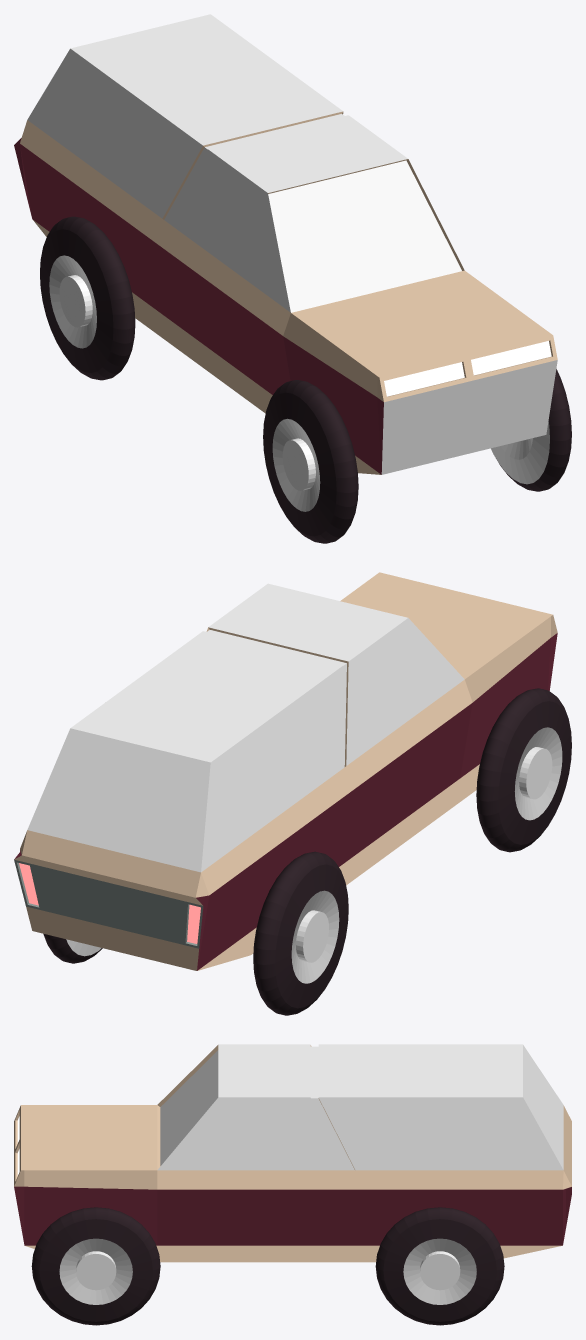
File: ari_lybaert_toy.8cf117b7.glb
The picture shows the model from 3 angles, top to bottom: view 1: azimuth 30°, elevation 25°; view 2: azimuth 150°, elevation 25°; view 3: azimuth 270°, elevation 25°; orthographic projection. The views are drawn at different scales.
Parts seen in each view (by area): view 1: Cube, Cube.001, Cube.002; view 2: Cube, Cube.002, Cube.001; view 3: Cube, Cube.002, Cube.001.
Boxes of the visible parts, box(x1,y1,x2,y2) form: Cube: box(14, 14, 557, 474); Cube.001: box(263, 369, 571, 543); Cube.002: box(40, 216, 135, 380); Cube: box(14, 572, 557, 970); Cube.002: box(43, 851, 348, 1015); Cube.001: box(476, 688, 571, 852); Cube: box(14, 1044, 571, 1262); Cube.002: box(375, 1207, 504, 1325); Cube.001: box(31, 1207, 160, 1325).
Size of the model in its own units: 1.26 by 1.37 by 3.25.
